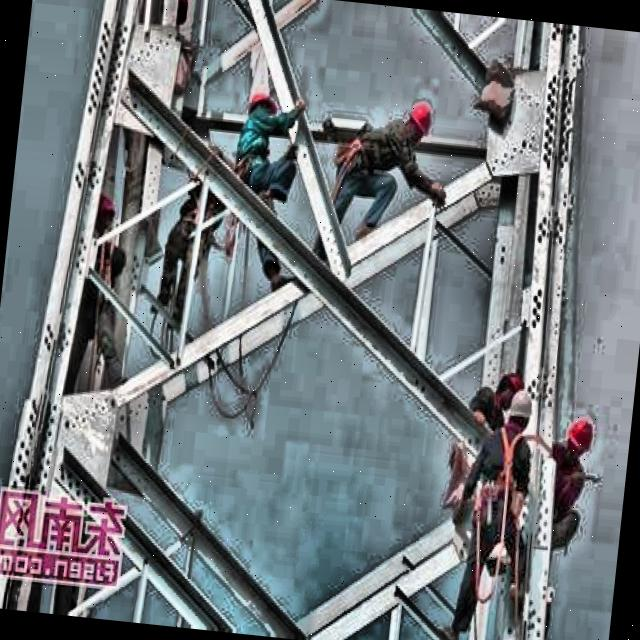helmet: (82, 182, 120, 240), (402, 97, 434, 151), (560, 416, 597, 462), (244, 88, 280, 132), (504, 391, 536, 439), (492, 368, 524, 409)
